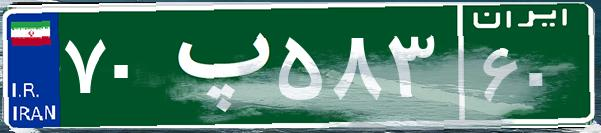0: (110, 28, 158, 105), (525, 38, 570, 115)
3: (385, 28, 445, 110)
5: (273, 28, 330, 110)
6: (475, 38, 525, 113)
7: (57, 26, 110, 107)
8: (330, 28, 385, 110)
پ: (158, 15, 273, 115)
